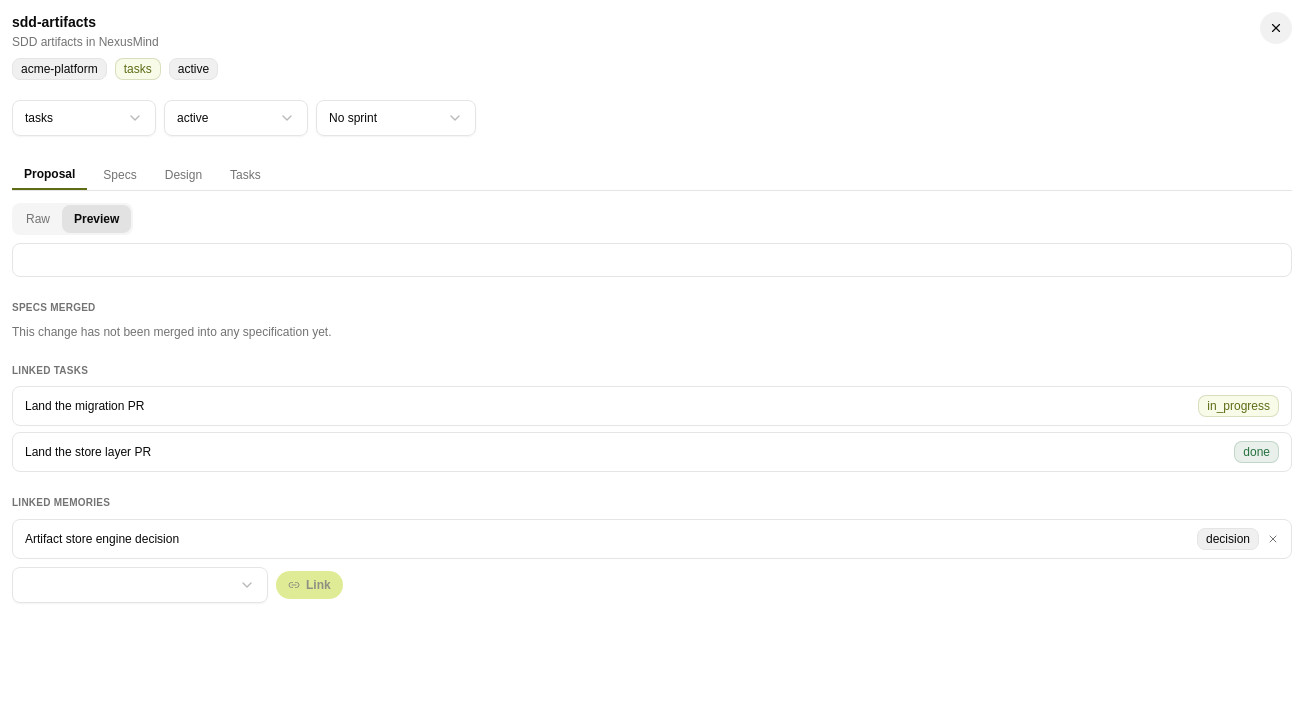
Scenario: ChangeDetail — revision selector › change_detail_revision_selector_shows_timestamp_and_source_per_revision
Step 1. Click the tab "Tasks" → (245, 175), box [218,161,273,189]
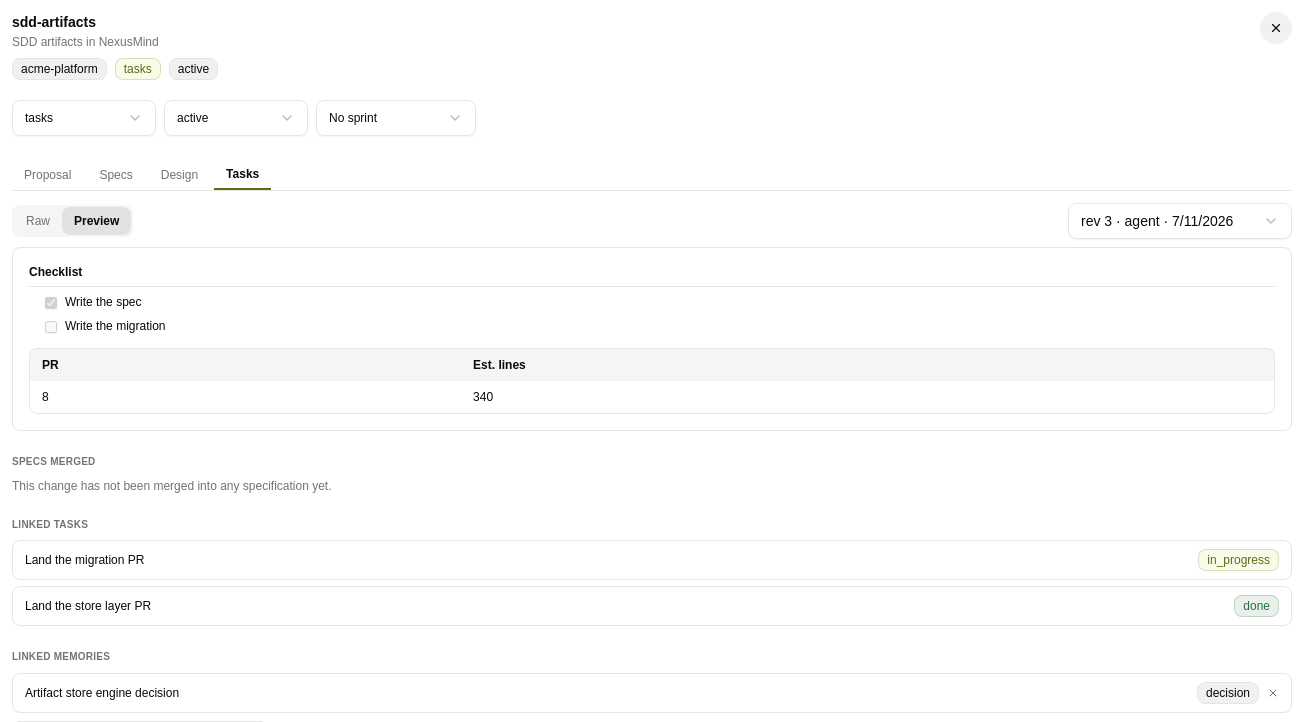
Step 2. Press Enter in the dropdown named "revision", box [1068,203,1292,239]
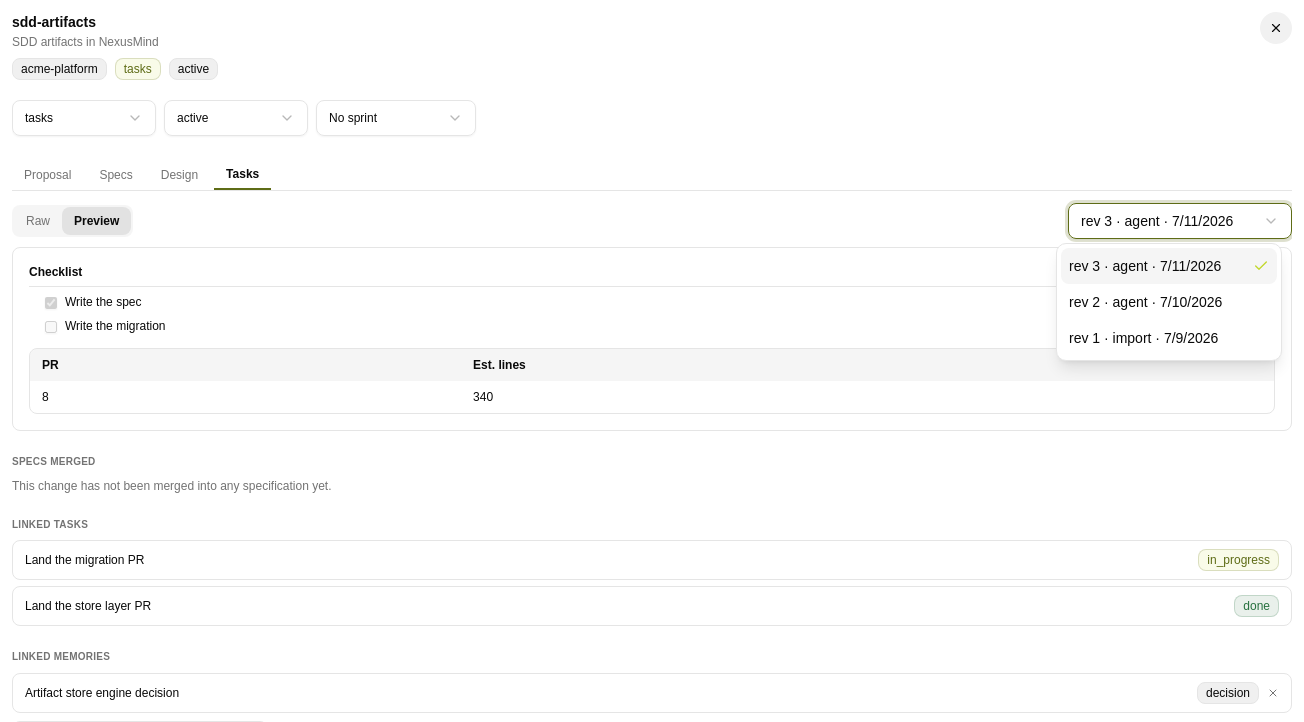
Expected: the option "rev 1 · import · 7/9/2026" is shown, [1069,330,1218,346]
Expected: the option "rev 2 · agent · 7/10/2026" is shown, [1069,294,1222,310]
